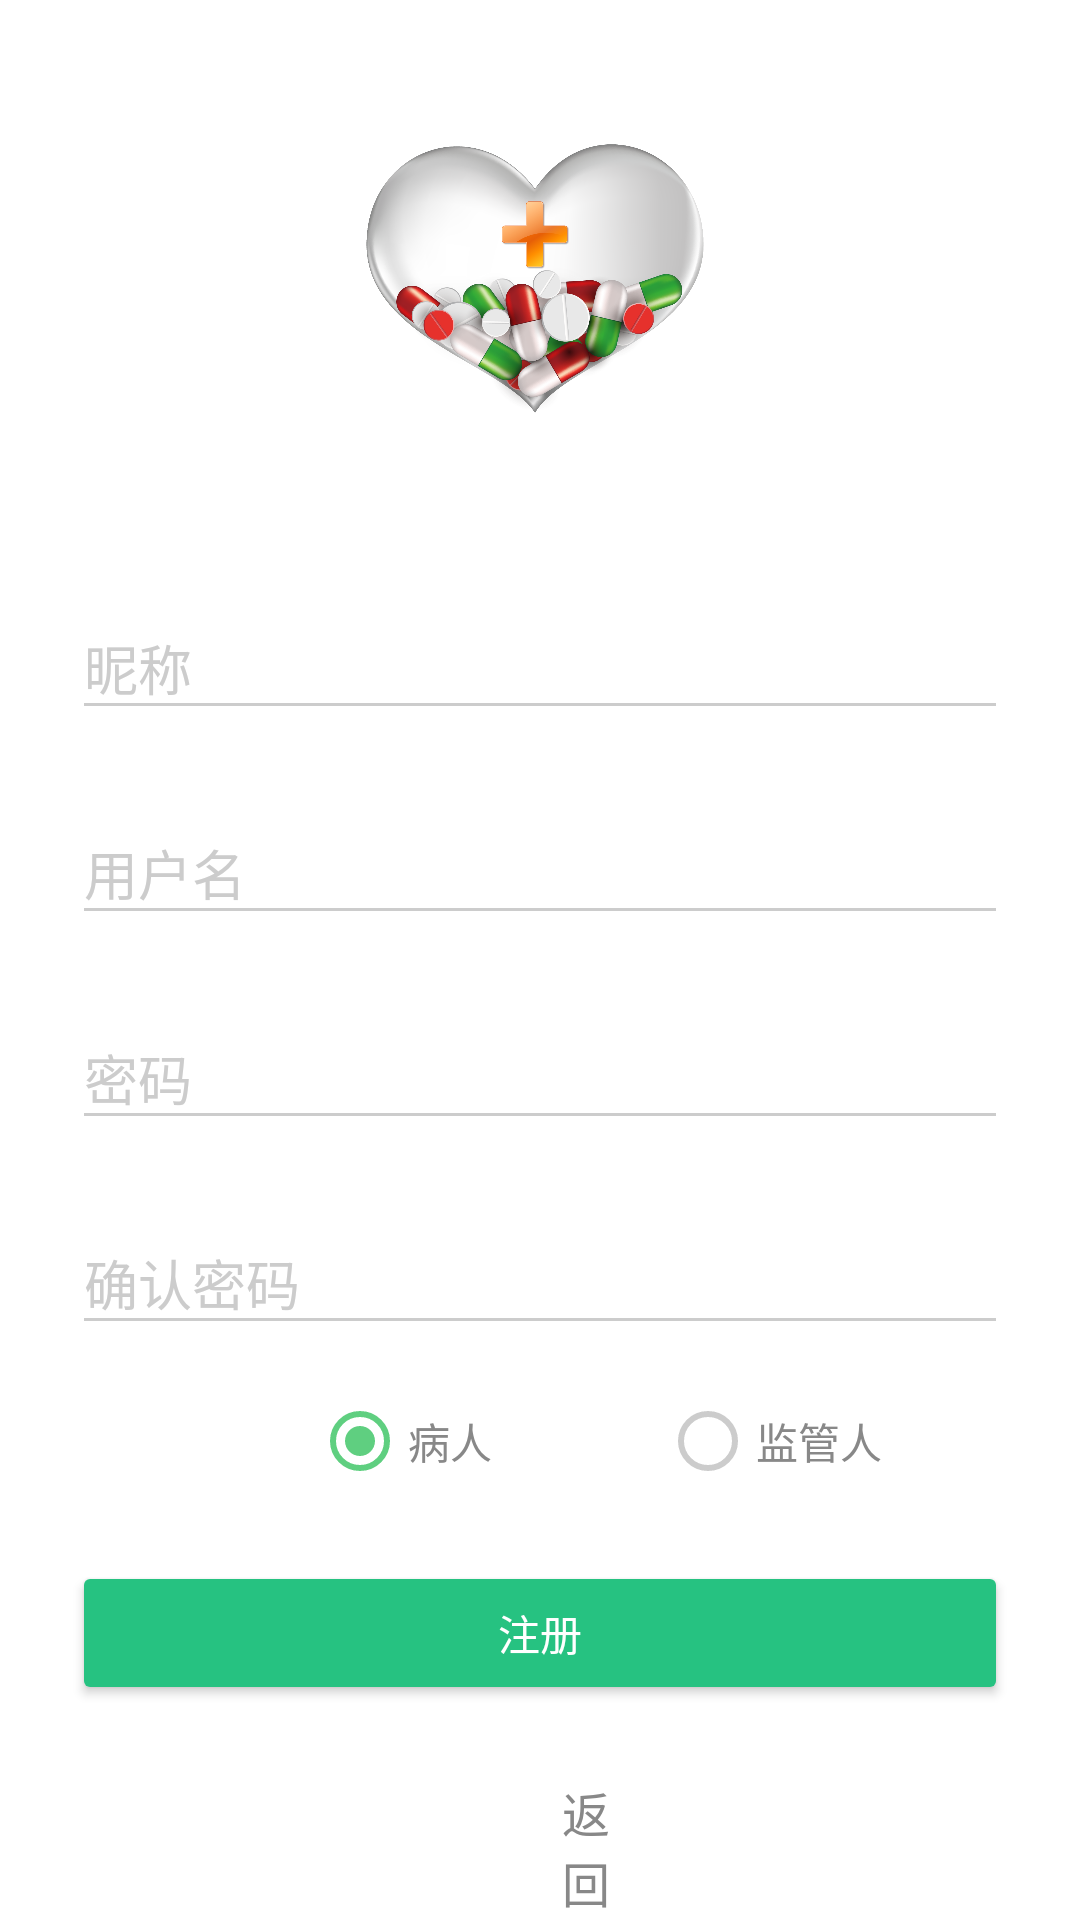

Icons on this 1080px x 1920px Android screen, each with the point to tap as point (x, y):
medicine add: point (535, 278)
